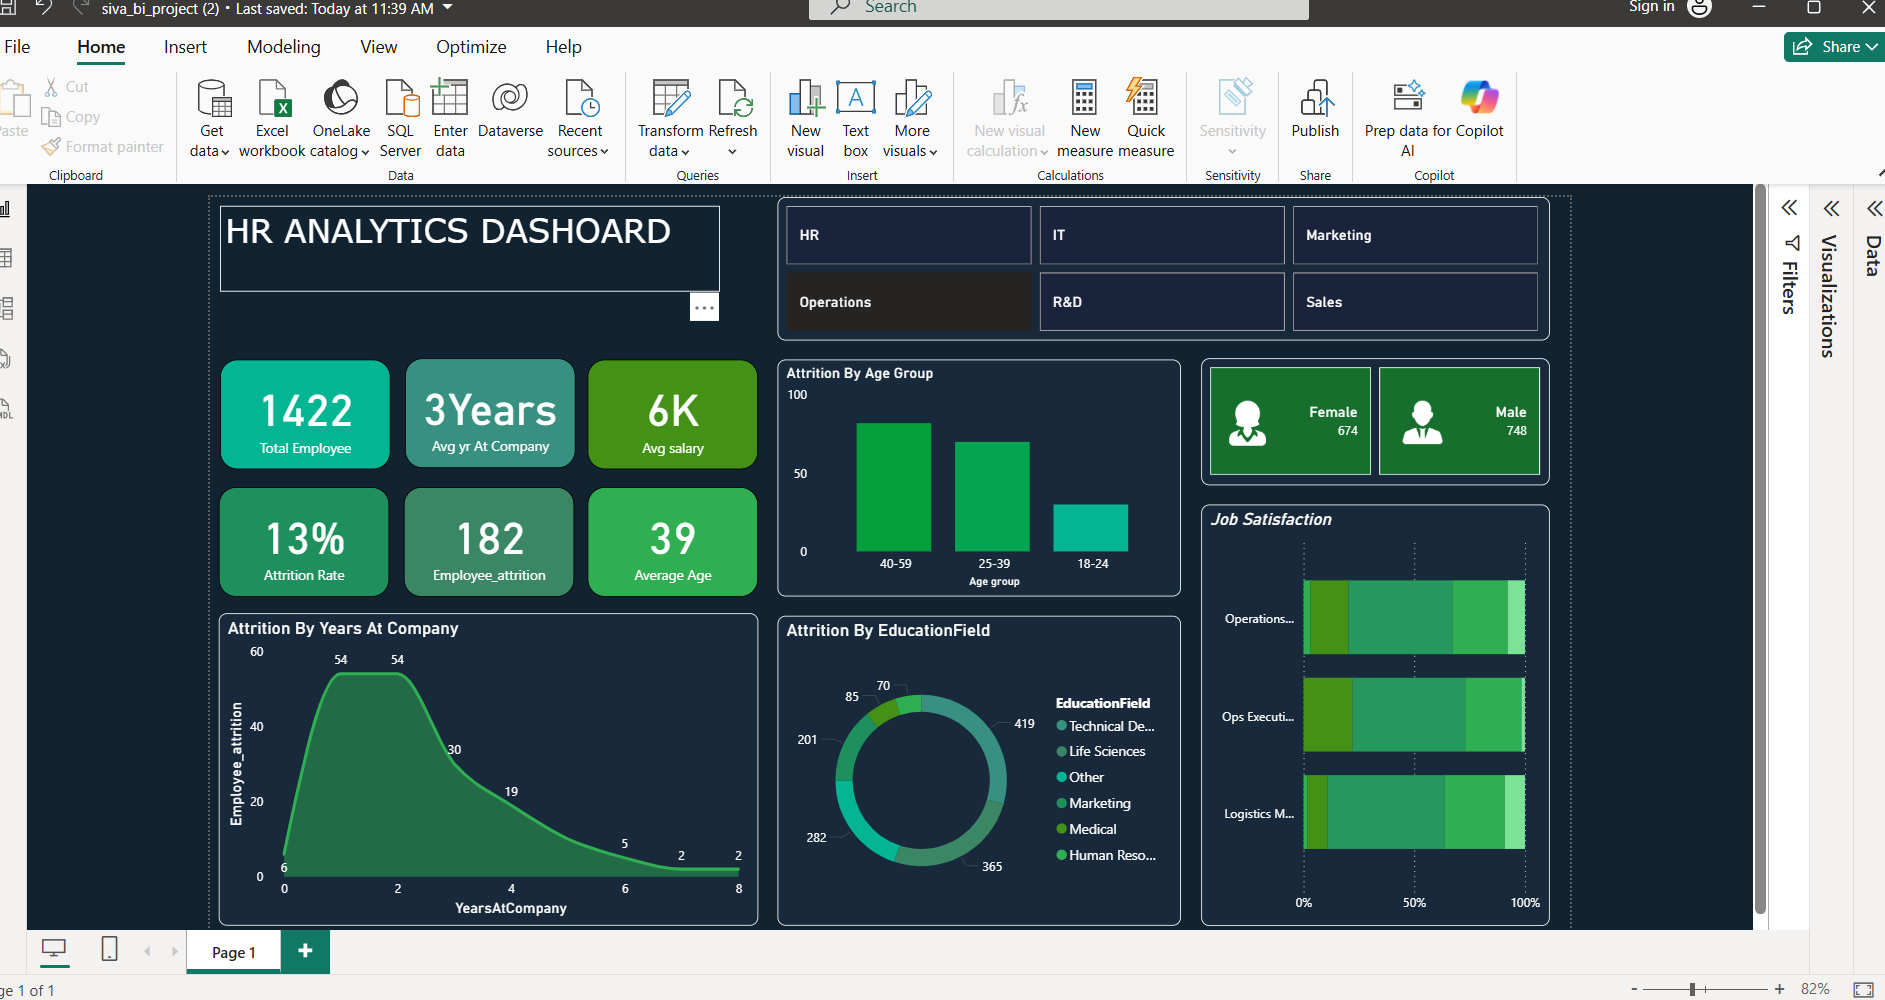

This screenshot's page, from the dashboard's own definition file:
{"tool":"powerbi","page":{"name":"Page 1","canvas":[1326,731],"ordinal":0},"visuals":[{"type":"card","fields":{"Values":["HR_data.Employe_count"]},"box":[10,158.8,166.2,107.5],"z":0},{"type":"areaChart","title":"Attrition By Years At Company","fields":{"Y":["HR_data.employee_attrition"],"Category":["HR_data.YearsAtCompany"]},"box":[8.8,406.2,526.2,305],"z":1000},{"type":"donutChart","title":"Attrition By EducationField","fields":{"Y":["HR_data.Employe_count"],"Category":["HR_data.EducationField"]},"box":[553.8,408.8,393.8,302.5],"z":2000},{"type":"clusteredColumnChart","title":"Attrition By Age Group","fields":{"Y":["HR_data.employee_attrition"],"Category":["HR_data.Age group"]},"box":[553.8,158.8,393.8,231.2],"z":3000},{"type":"hundredPercentStackedBarChart","title":"Job Satisfaction","fields":{"Y":["HR_data.employee_attrition"],"Category":["HR_data.JobRole"],"Series":["HR_data.PerformanceRating"]},"box":[967.5,300,340,411.2],"z":4000},{"type":"card","fields":{"Values":["HR_data.employee_attrition"]},"box":[188.8,282.5,166.2,107.5],"z":5000},{"type":"card","fields":{"Values":["HR_data.year_with_text"]},"box":[190,157.5,166.2,107.5],"z":6000},{"type":"card","fields":{"Values":["HR_data.Attrition%"]},"box":[8.8,282.5,166.2,107.5],"z":7000},{"type":"card","fields":{"Values":["HR_data.avg_salary"]},"box":[368.8,158.8,166.2,107.5],"z":8000},{"type":"card","fields":{"Values":["HR_data.avg_age"]},"box":[368.8,282.5,166.2,107.5],"z":9000},{"type":"advancedSlicerVisual","fields":{"Values":["HR_data.Gender"]},"box":[967.5,157.5,340,123.8],"z":10000},{"type":"image","box":[967.5,193.8,90,53.8],"z":11000},{"type":"image","box":[1137.5,193.8,90,52.5],"z":12000},{"type":"advancedSlicerVisual","fields":{"Values":["HR_data.Department"]},"box":[553.8,0,753.8,140],"z":13000},{"type":"textbox","box":[10,8.8,487.5,83.8],"z":14000}]}

Visuals, with their boxes on the page's 1326x731 design canvas (x1, y1, x2, y2). These are canvas units, not pixel positions in the 1885x1000 screenshot, which may show the page scaled, cropped or inside an application window:
card - HR_data.Employe_count: detection(10, 159, 176, 266)
"Attrition By Years At Company" areaChart: detection(9, 406, 535, 711)
"Attrition By EducationField" donutChart: detection(554, 409, 948, 711)
"Attrition By Age Group" clusteredColumnChart: detection(554, 159, 948, 390)
"Job Satisfaction" hundredPercentStackedBarChart: detection(968, 300, 1308, 711)
card - HR_data.employee_attrition: detection(189, 282, 355, 390)
card - HR_data.year_with_text: detection(190, 158, 356, 265)
card - HR_data.Attrition%: detection(9, 282, 175, 390)
card - HR_data.avg_salary: detection(369, 159, 535, 266)
card - HR_data.avg_age: detection(369, 282, 535, 390)
advancedSlicerVisual - HR_data.Gender: detection(968, 158, 1308, 281)
image: detection(968, 194, 1058, 248)
image: detection(1138, 194, 1228, 246)
advancedSlicerVisual - HR_data.Department: detection(554, 0, 1308, 140)
textbox: detection(10, 9, 498, 93)
